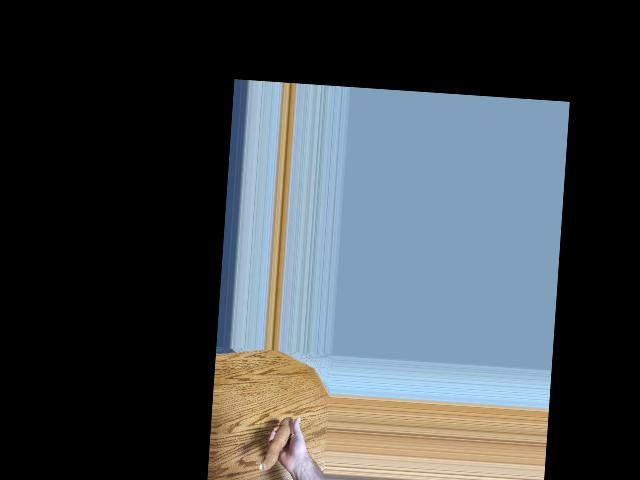sweet_potato: (259, 412, 292, 473)
